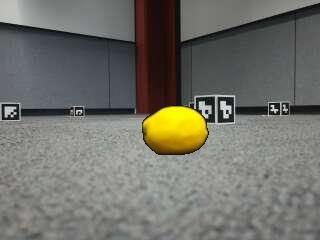lemon: (143, 106, 208, 154)
